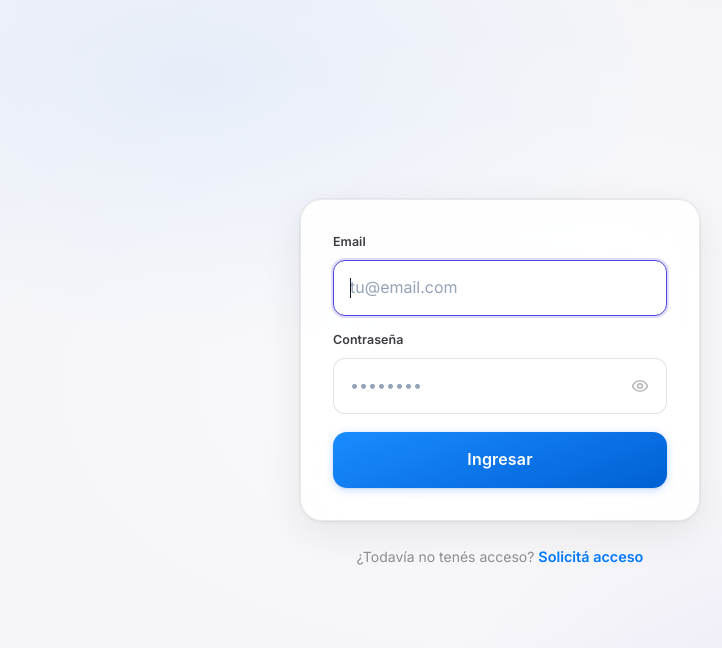
Scenario: PRE-BETA-2D · PortalLogin › U2. reenvío con rate limit → estado propio, sin botón
Type "mayorista-qa@example.test" into the field with placeholder "tu@email.com" at coordinates (500, 288), box [333,260,667,316]
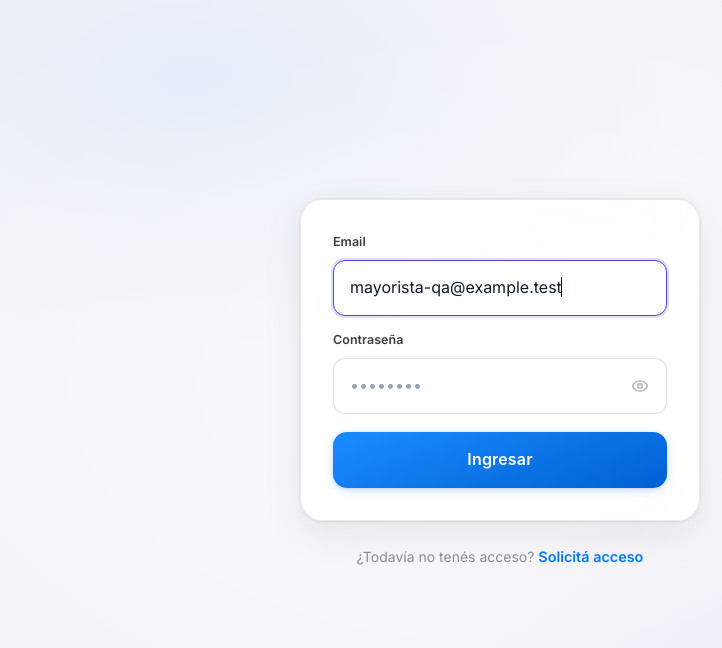
Type "segura-123" into the password field with placeholder "••••••••" at coordinates (500, 386), box [333,358,667,414]
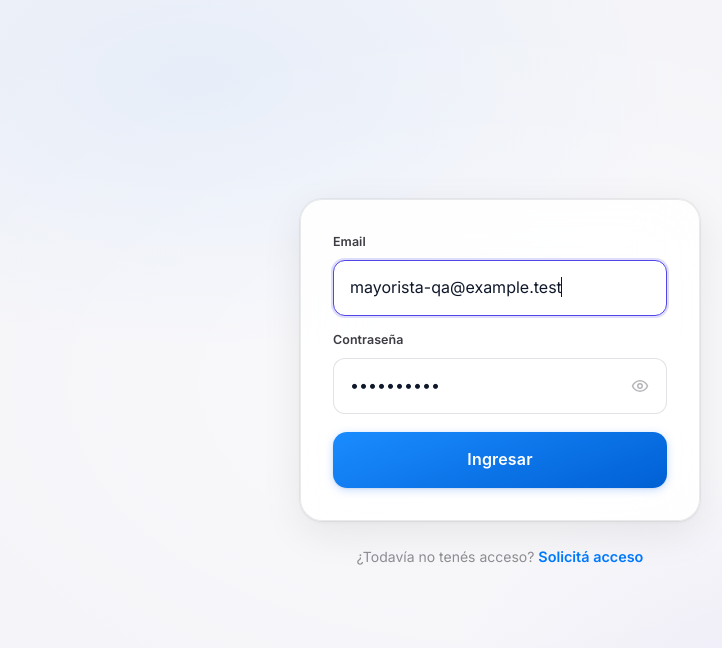
Submit the form, box [333,232,667,488]
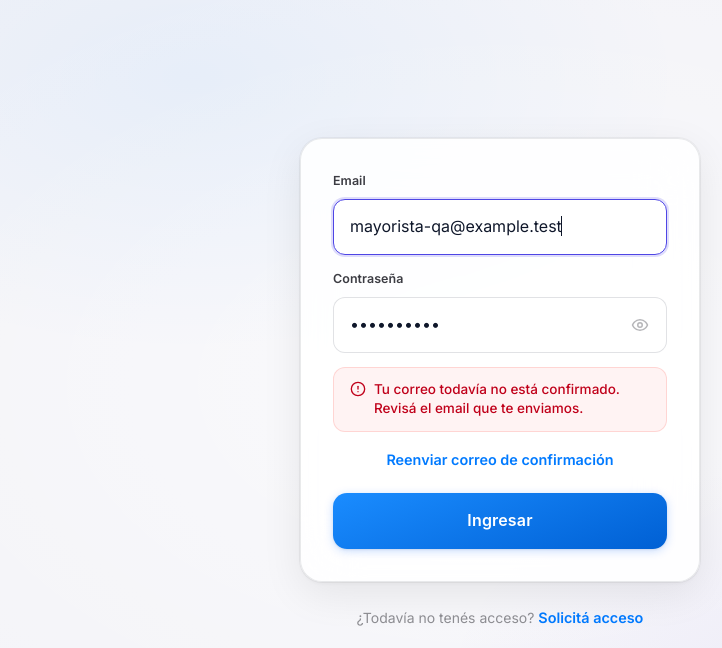
Click the button with test id "portal-login-resend" at coordinates (500, 460), box [382,446,618,475]
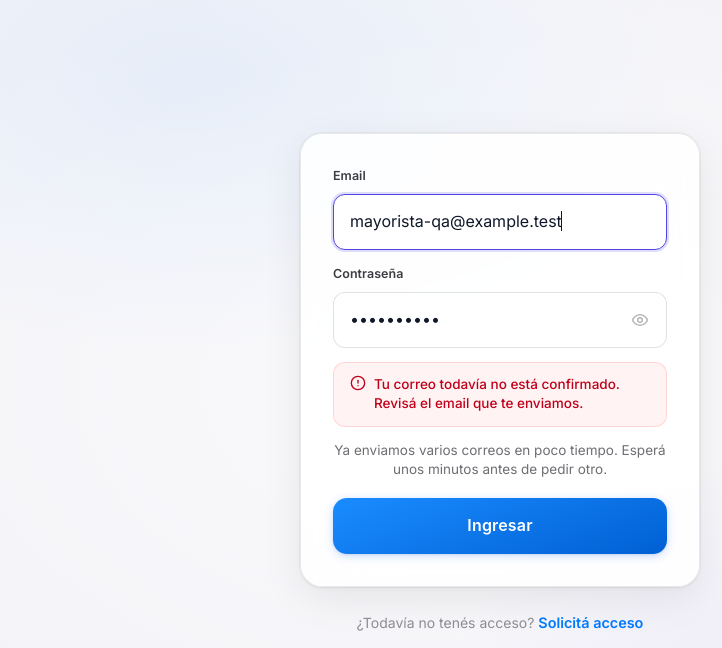
Now the text with test id "portal-login-resend-limited" shows "Esperá unos minutos", box [334,442,666,477]
Now the button with test id "portal-login-resend" is gone
